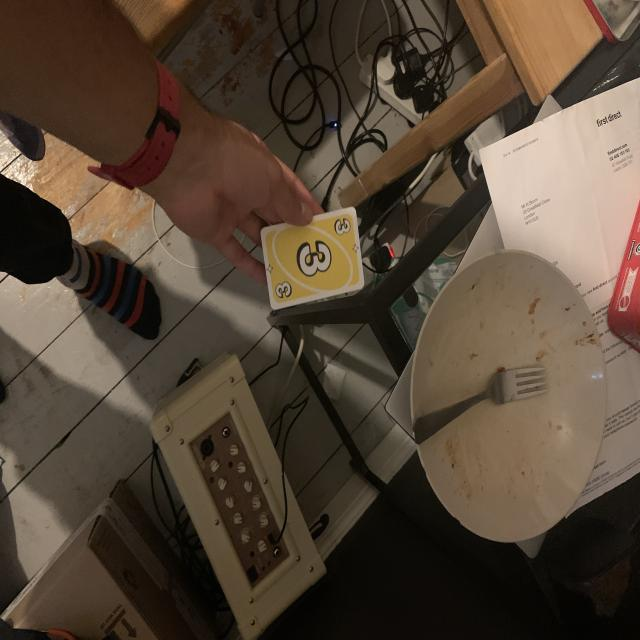lyellow-3: (330, 213, 356, 241)
